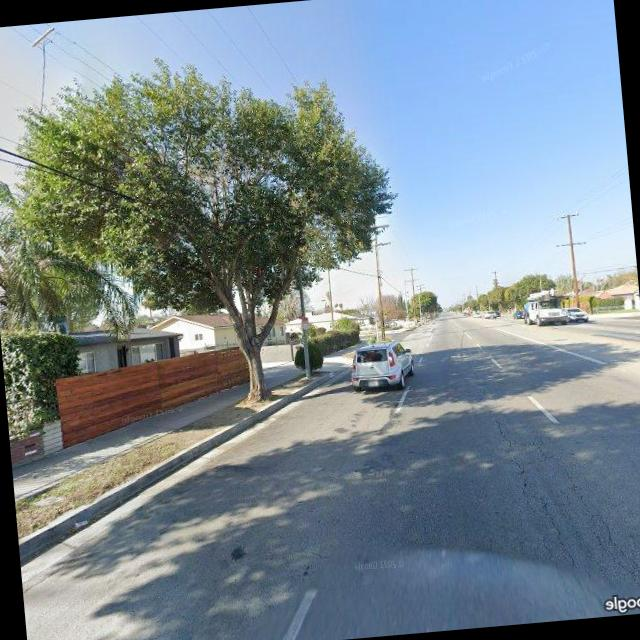pothole: (541, 415, 640, 600), (486, 380, 580, 574)
